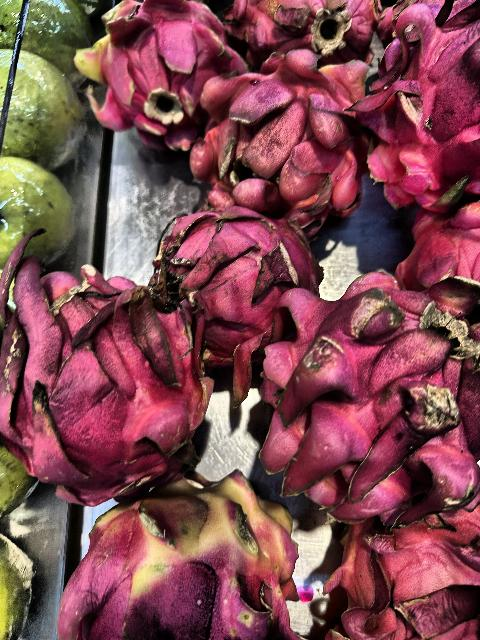buah-naga-belum-matang: (59, 462, 298, 640), (82, 0, 234, 146)
buah-naga-matang: (256, 256, 480, 526), (9, 219, 205, 487), (191, 60, 361, 228), (139, 193, 302, 354), (376, 1, 480, 200), (326, 512, 480, 640), (225, 0, 375, 72)
